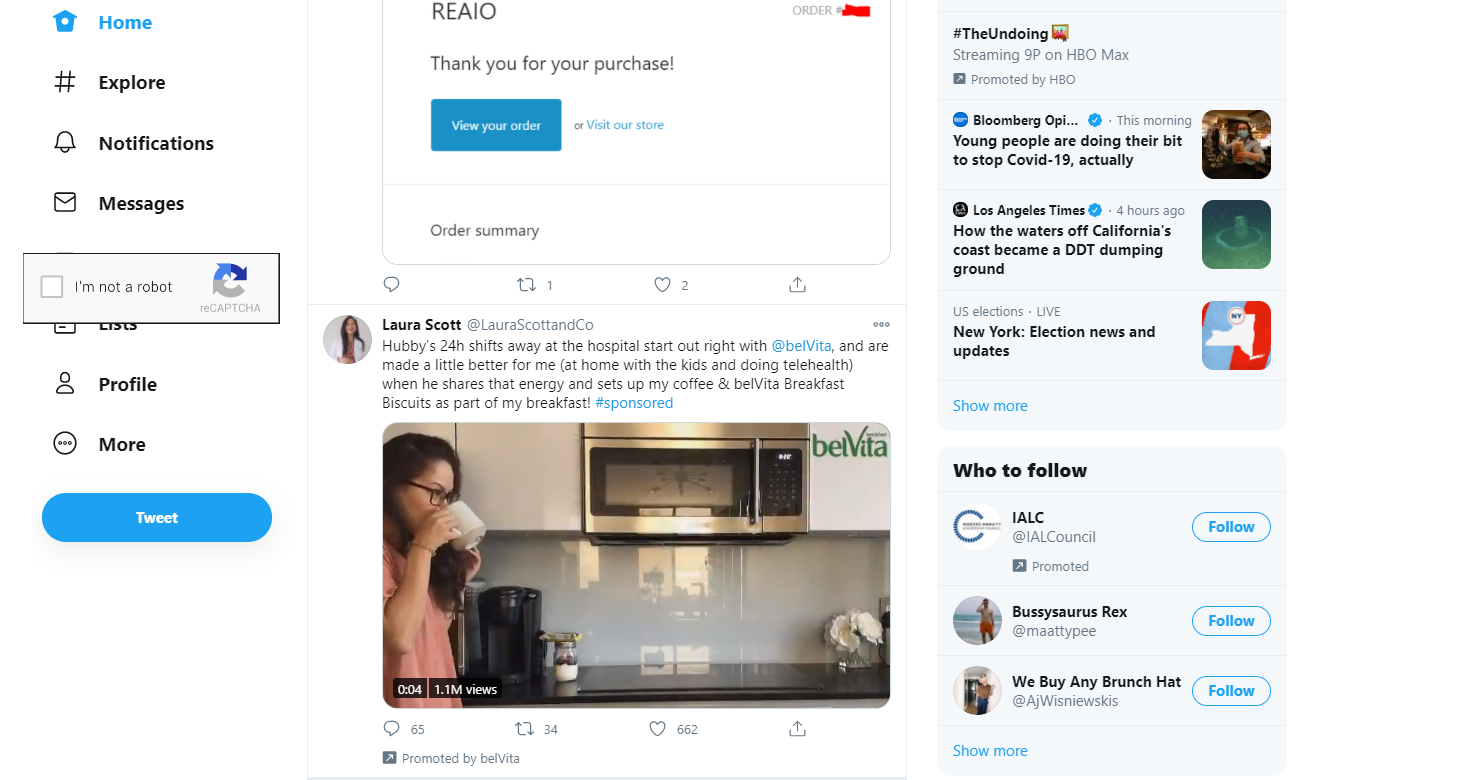captcha: (23, 253, 277, 322)
